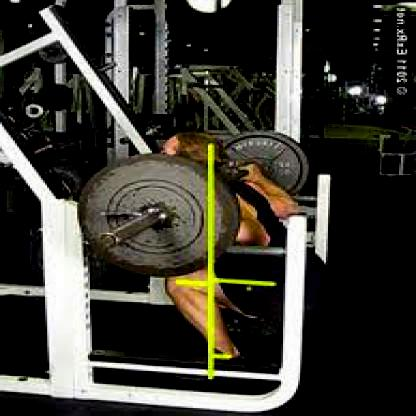Barbell: (94, 231, 119, 252)
